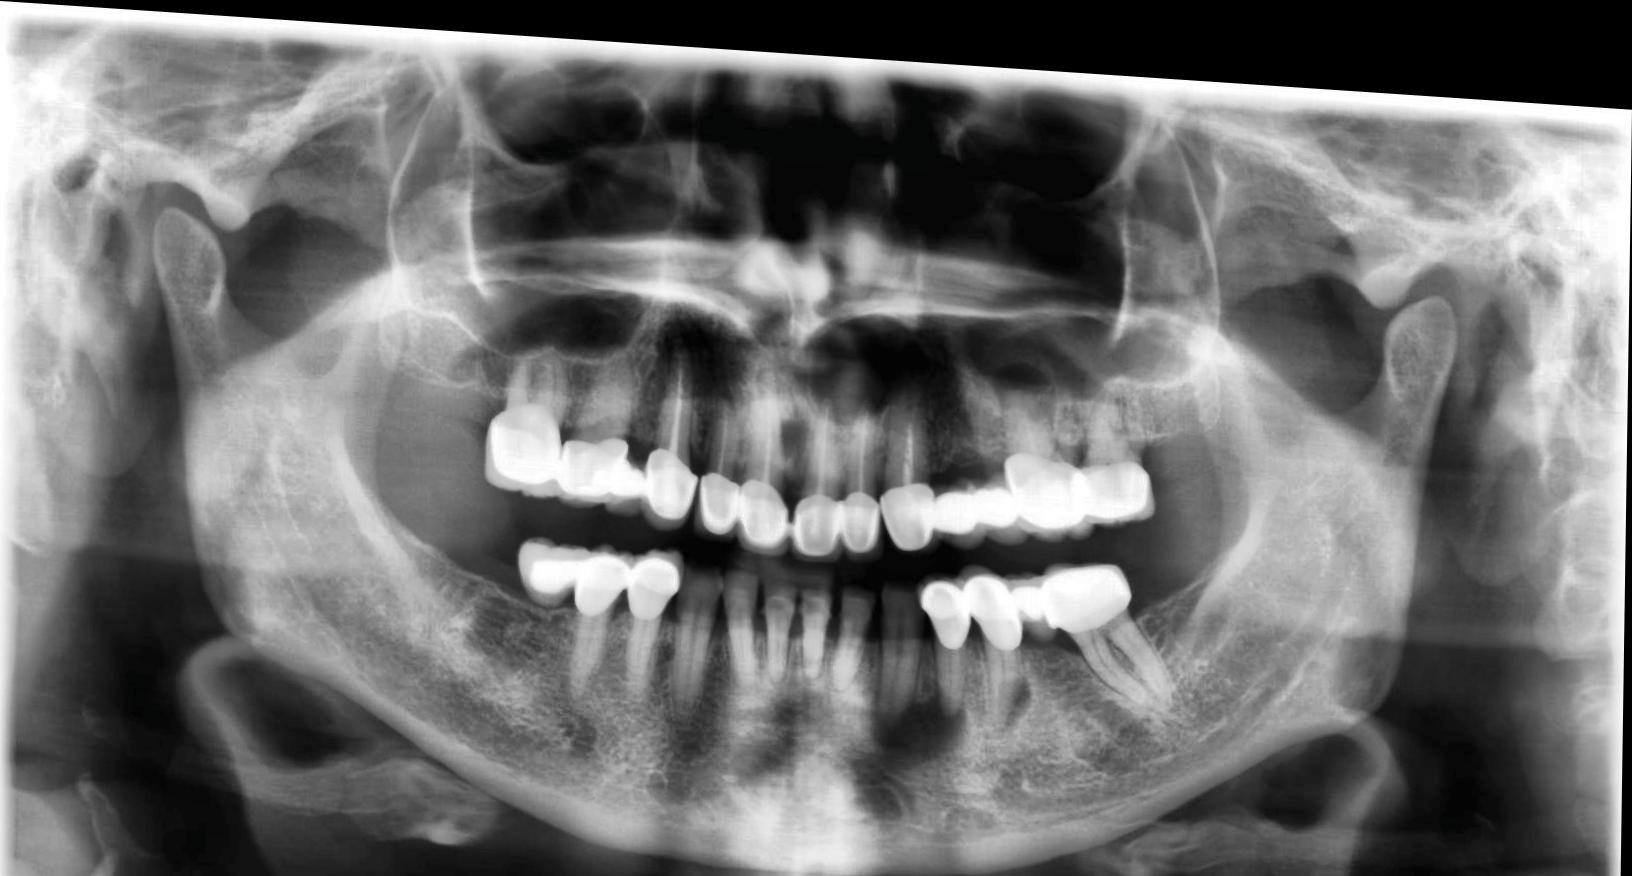radikuler: (795, 293, 929, 421), (988, 343, 1062, 419)
